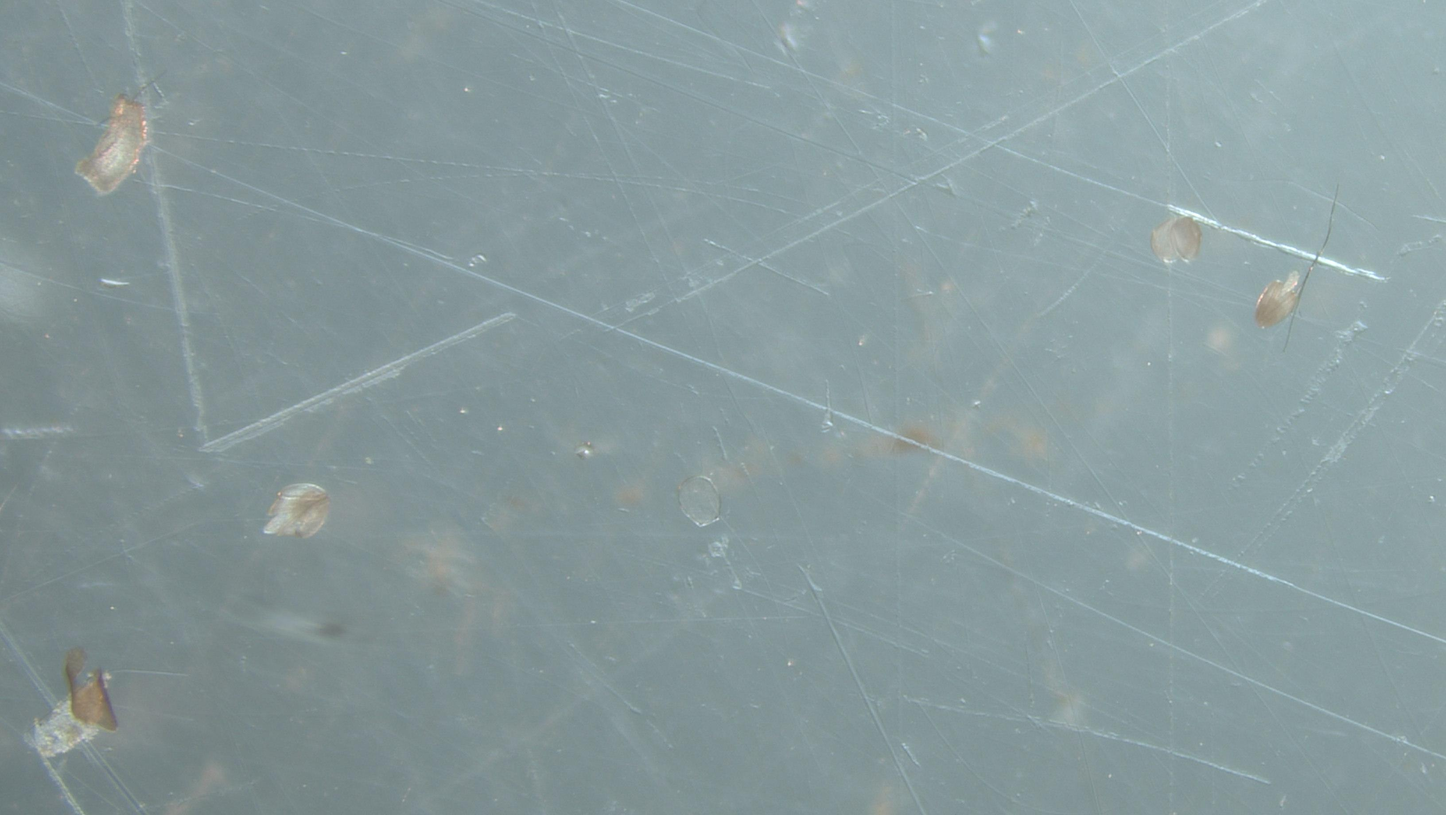dead: (1151, 216, 1202, 265), (677, 476, 722, 527)
live: (263, 484, 330, 538), (1255, 271, 1302, 329)
